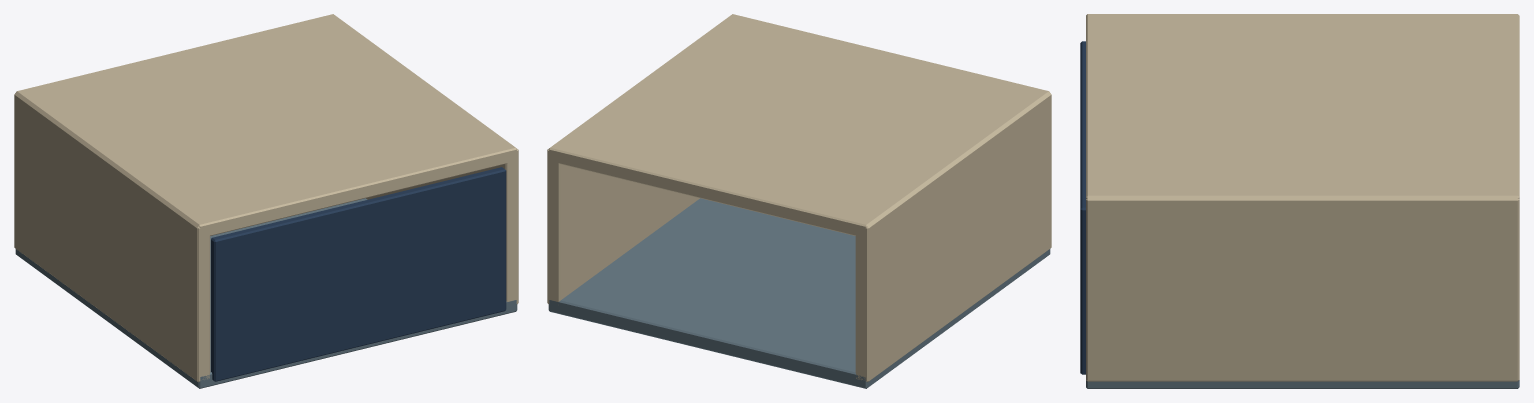
Rendered from space-station-hangar.lod0.glb.
3 renders of one model, left to right at view 1: azimuth 30°, elevation 25°; view 2: azimuth 150°, elevation 25°; view 3: azimuth 270°, elevation 25°, orthographic. The views are drawn at different scales.
Parts seen in each view (by area): view 1: space-station-hangar__body, space-station-hangar__hangar_door; view 2: space-station-hangar__body; view 3: space-station-hangar__body, space-station-hangar__hangar_door.
Part boxes in pixels (<box>): space-station-hangar__body: <box>14,14,518,388</box>; space-station-hangar__hangar_door: <box>211,167,506,381</box>; space-station-hangar__body: <box>547,14,1051,388</box>; space-station-hangar__body: <box>1086,14,1519,388</box>; space-station-hangar__hangar_door: <box>1080,41,1085,374</box>.
Bounding box in the file's own units: 6.05 × 2.95 × 6.08.
